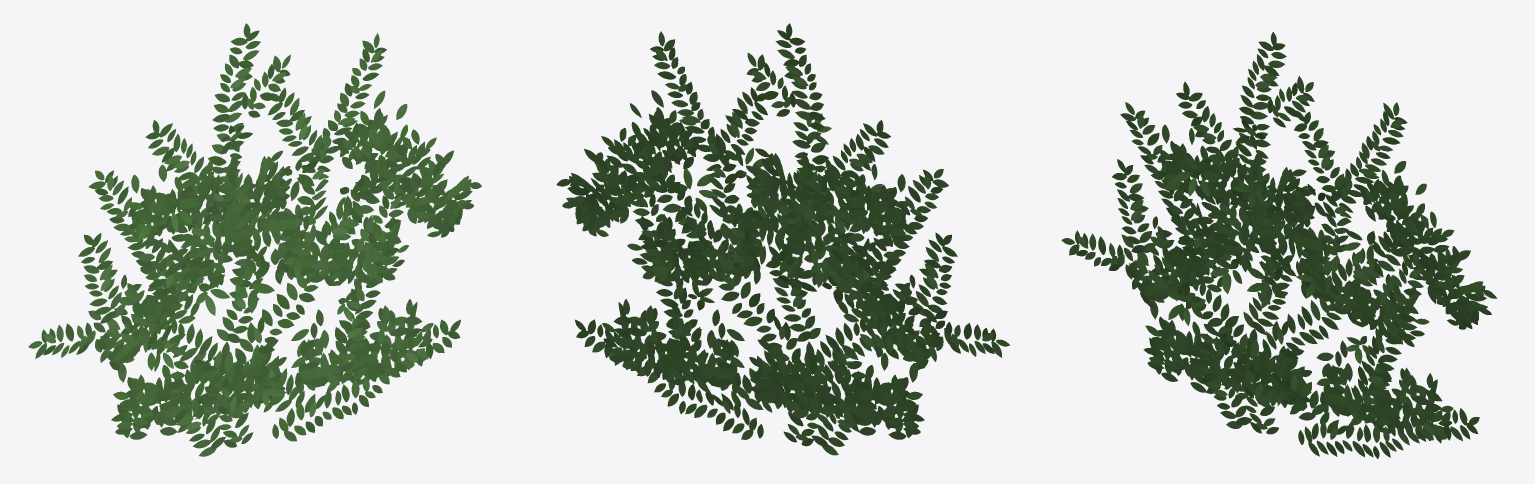
File: SM_Env_Vine_Creeping_05.fbx
3 renders of one model, left to right at view 1: azimuth 30°, elevation 25°; view 2: azimuth 150°, elevation 25°; view 3: azimuth 330°, elevation 25°, orthographic. The views are drawn at different scales.
Parts seen in each view (by area): view 1: SM_Env_Vine_Creeping_05_LOD0; view 2: SM_Env_Vine_Creeping_05_LOD0; view 3: SM_Env_Vine_Creeping_05_LOD0.
Part boxes in pixels (bbox=[...]): SM_Env_Vine_Creeping_05_LOD0: bbox=[28, 23, 481, 456]; SM_Env_Vine_Creeping_05_LOD0: bbox=[556, 23, 1009, 455]; SM_Env_Vine_Creeping_05_LOD0: bbox=[1061, 32, 1497, 458].
Size of what is drawn, in the model's own units: 399 by 358 by 17.47.
